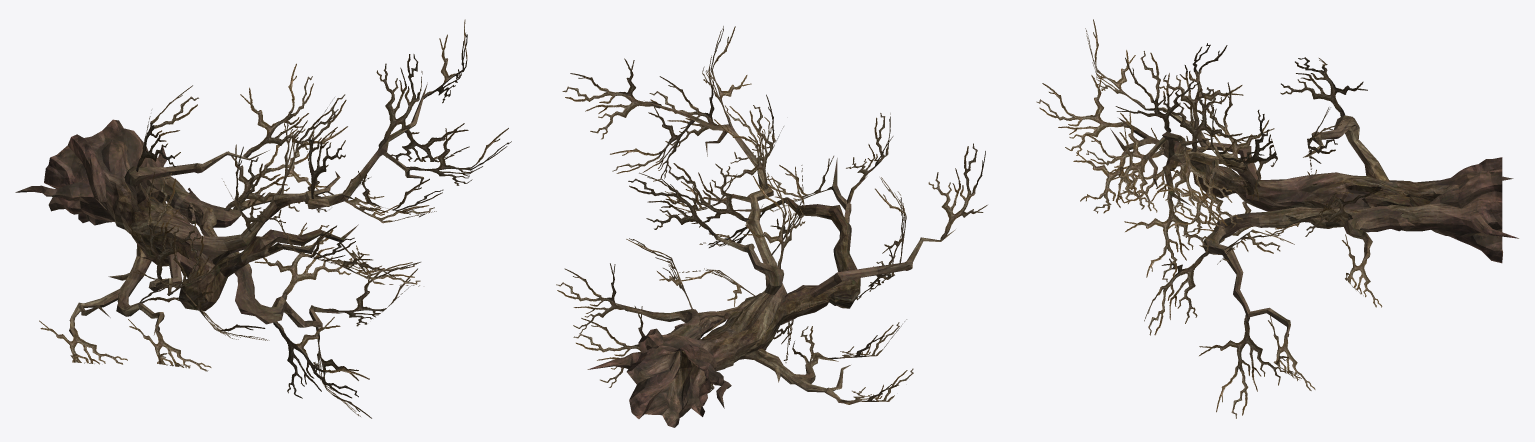
Rendered from huodong_fuben_653_kushu_c.obj.
3 views of the same model, side by side, from view 1: azimuth 30°, elevation 25°; view 2: azimuth 150°, elevation 25°; view 3: azimuth 270°, elevation 25° (orthographic). The views are drawn at different scales.
Parts seen in each view (by area): view 1: objhuodong_fuben_653_kushu_c; view 2: objhuodong_fuben_653_kushu_c; view 3: objhuodong_fuben_653_kushu_c.
Part boxes in pixels (left/top/right/bottom): objhuodong_fuben_653_kushu_c: left=15, top=19, right=511, bottom=418; objhuodong_fuben_653_kushu_c: left=556, top=26, right=987, bottom=427; objhuodong_fuben_653_kushu_c: left=1036, top=19, right=1518, bottom=418.
Size of the model in its own units: 527 by 490 by 570.
2 materials, 2 textured.
